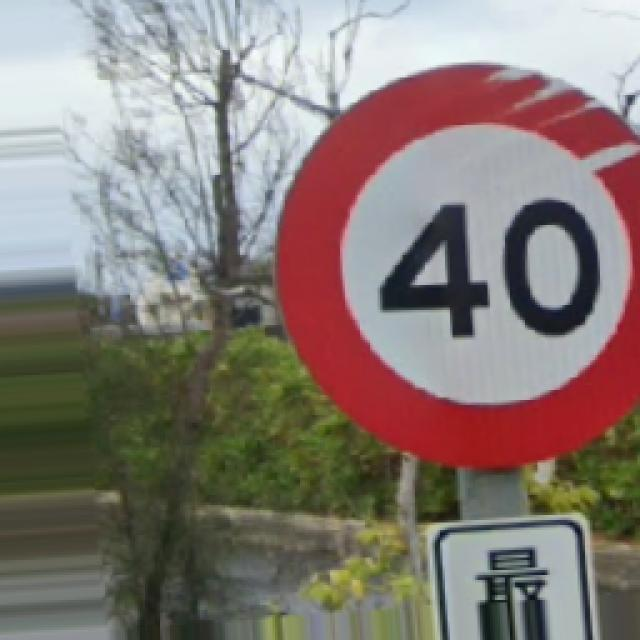Speed Limit -40-: (275, 62, 638, 465)
